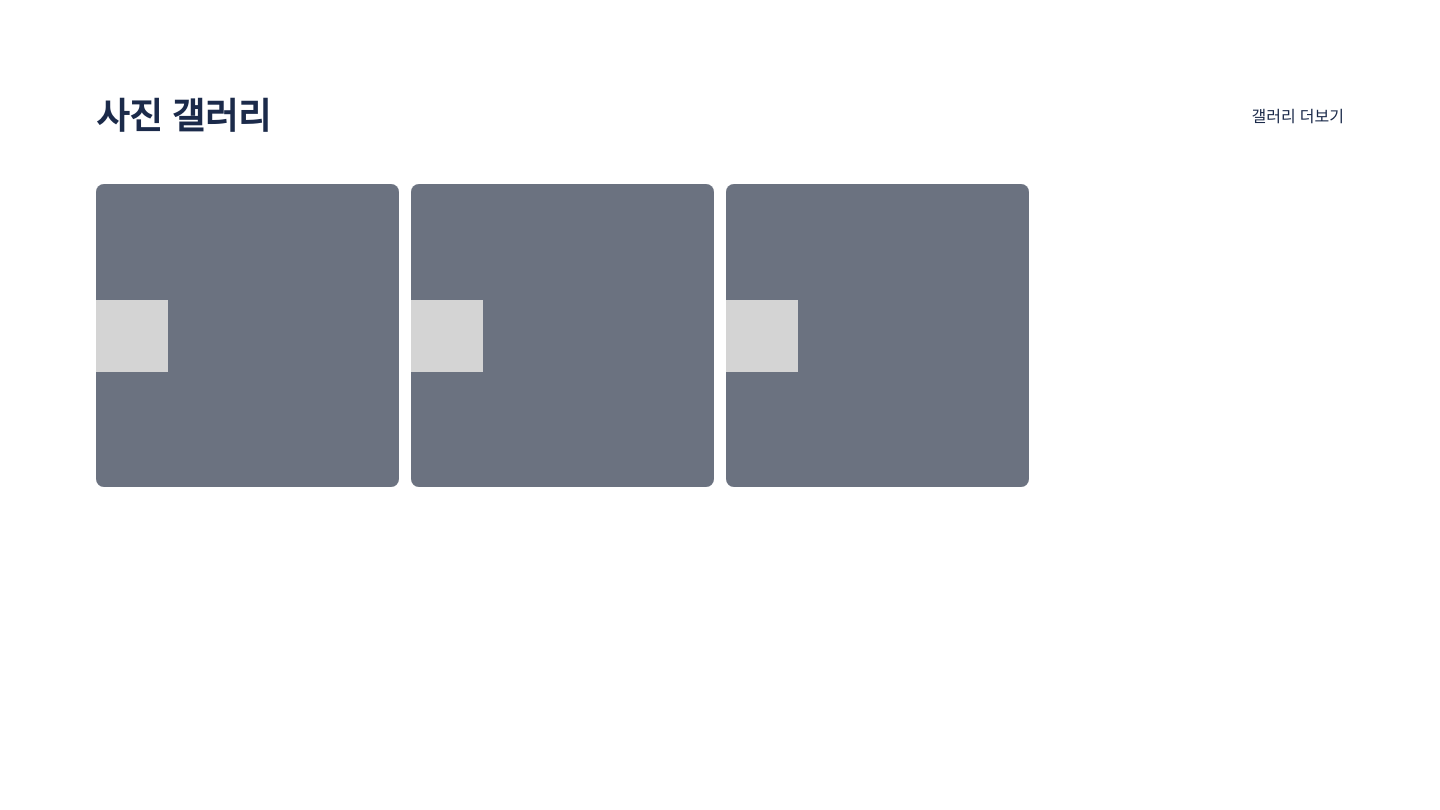
GalleryPreview - 3-5-C. 라이트박스 연동 › 클릭한 사진의 인덱스가 Lightbox initialIndex로 전달된다
What coordinates should you click on to do the following:
click the 2nd button
I would click on:
 (447, 336)
Its box is [411,184,714,487].
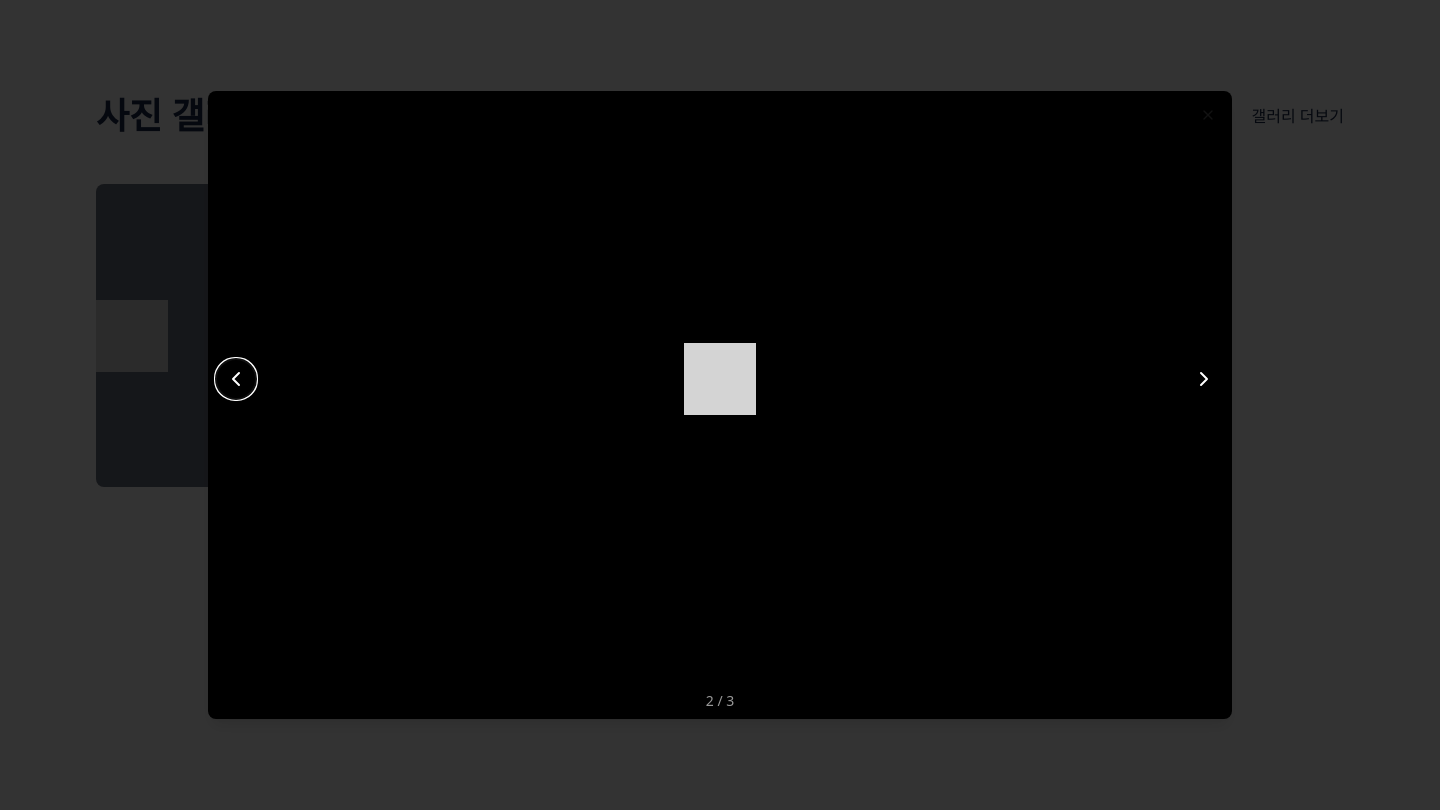
Check: the text "2 / 3" is shown, box [706,691,734,710]
